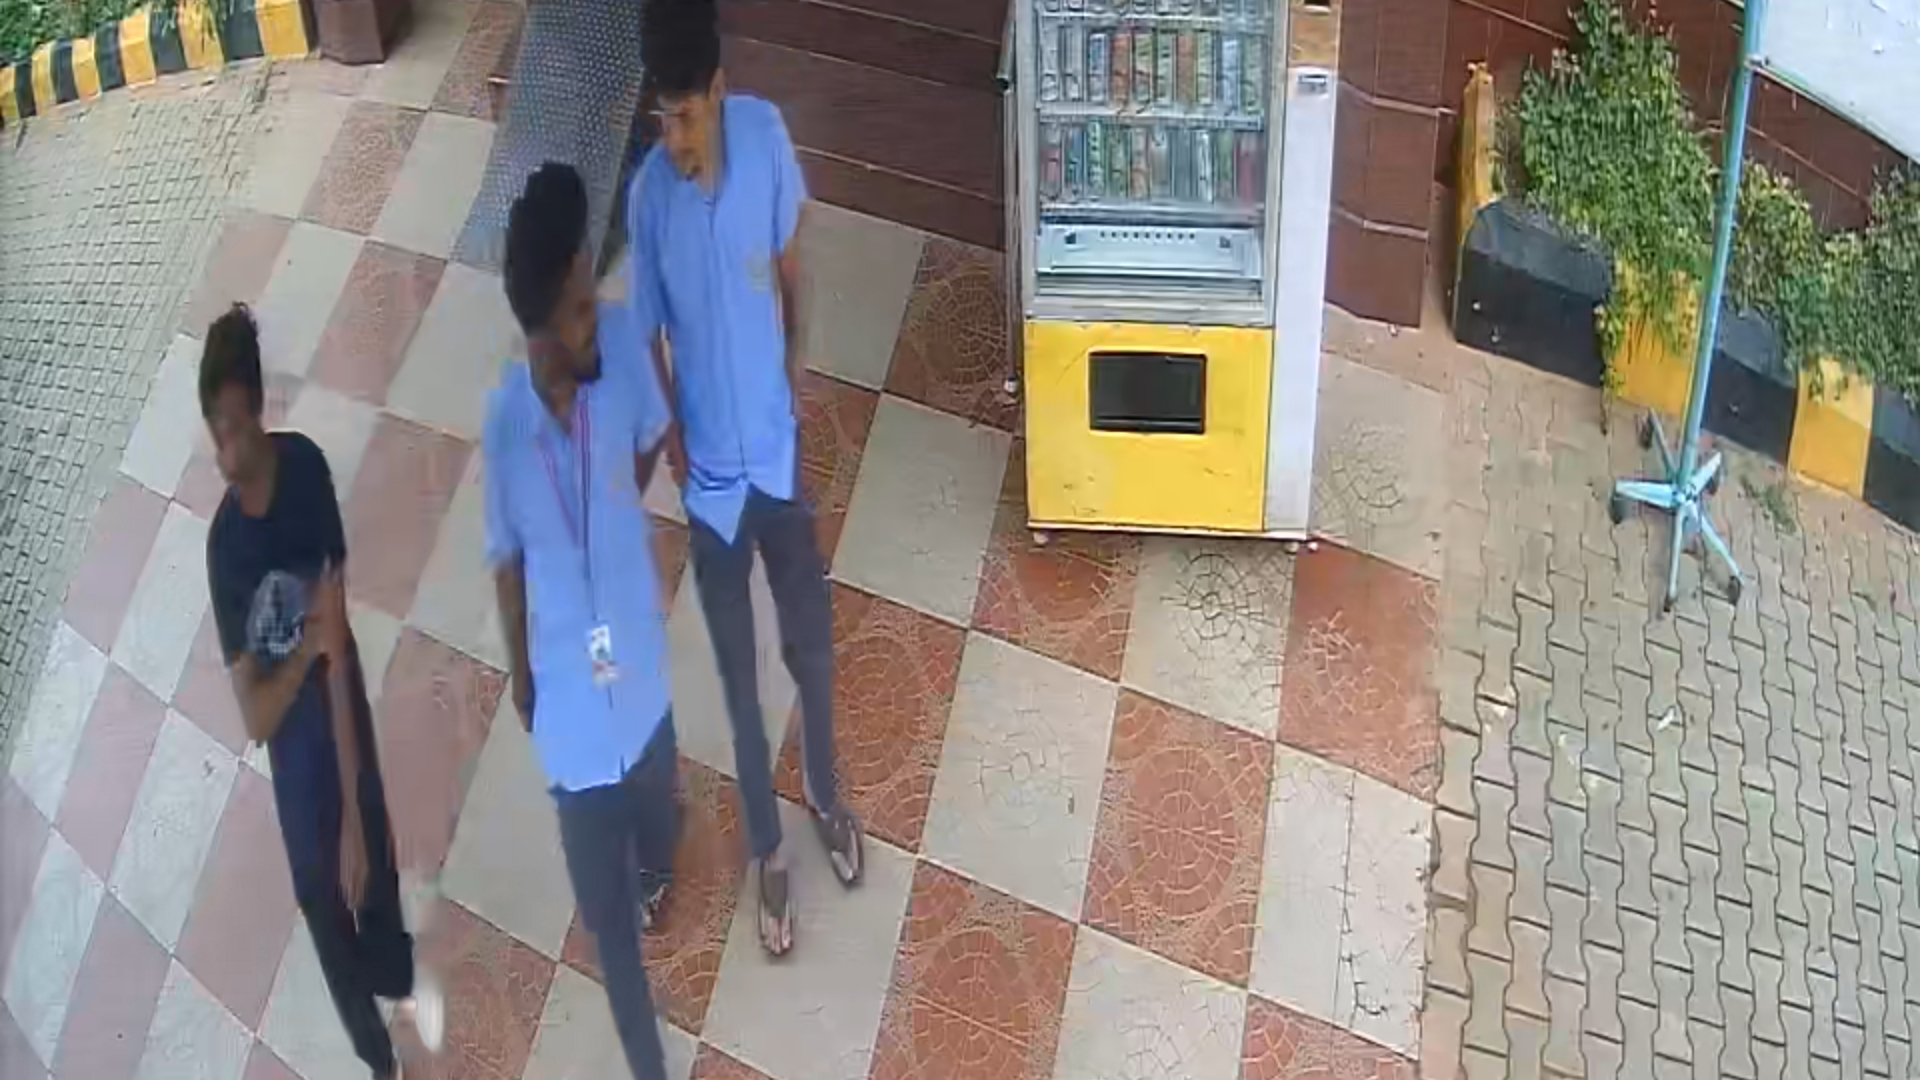intruder: (633, 1, 891, 939), (200, 299, 444, 1062)
not intruder: (473, 158, 702, 1076)
